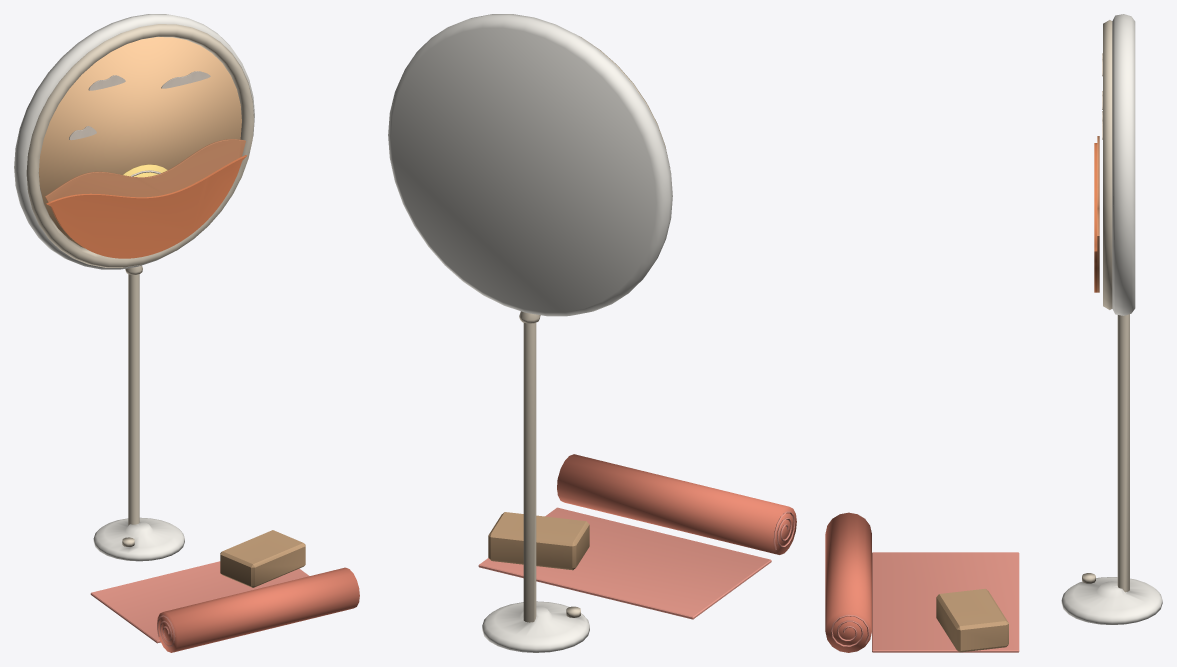
The model's file is sunriseLamp.glb.
The picture shows the model from 3 angles, left to right: view 1: azimuth 30°, elevation 25°; view 2: azimuth 150°, elevation 25°; view 3: azimuth 270°, elevation 25°; orthographic projection. The views are drawn at different scales.
Visible parts, largest first — view 1: body; view 2: body; view 3: body.
Part boxes in pixels (bbox=[...]): body: bbox=[14, 14, 359, 652]; body: bbox=[388, 14, 796, 652]; body: bbox=[825, 14, 1162, 652].
Size of the model in its own units: 0.78 by 1.64 by 0.87.
